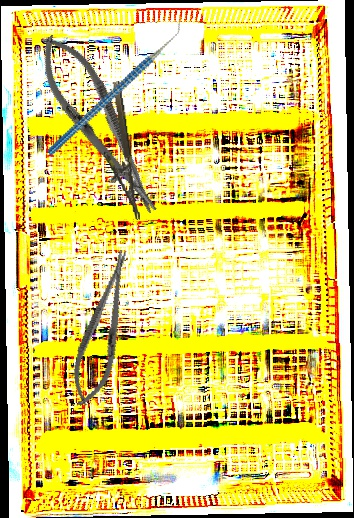Chopper: (19, 15, 212, 157)
Needle Holder: (25, 25, 174, 225), (63, 245, 144, 412), (94, 80, 141, 224)
